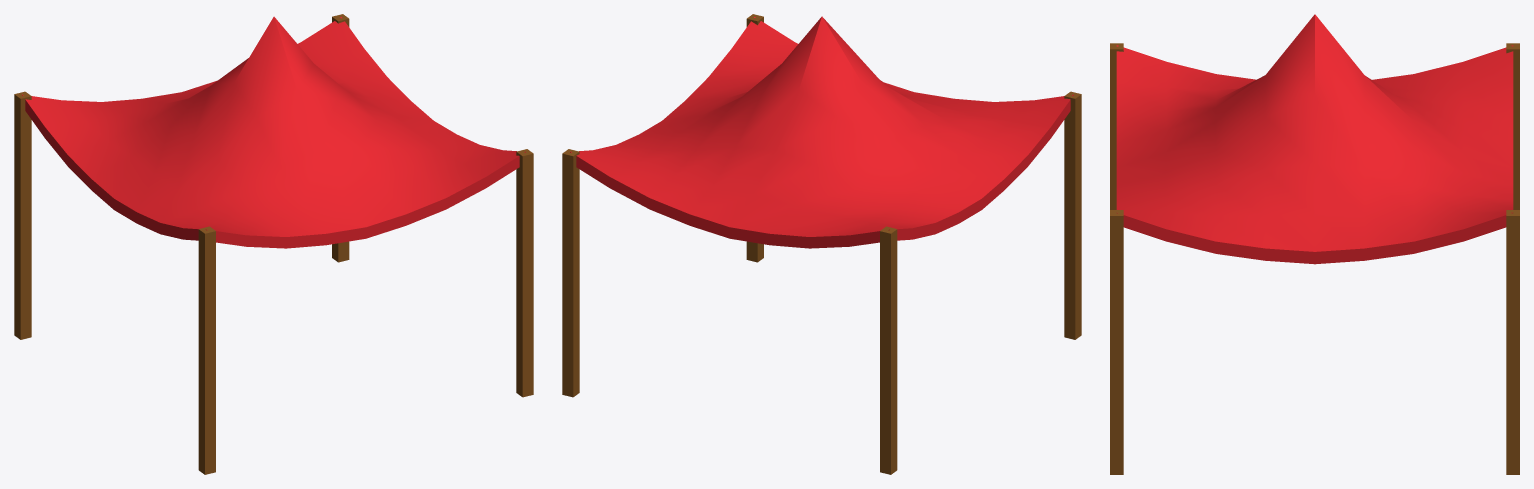
The model's file is zelt_gamejam.fbx.
3 views of the same model, side by side, from view 1: azimuth 30°, elevation 25°; view 2: azimuth 150°, elevation 25°; view 3: azimuth 270°, elevation 25° (orthographic). The views are drawn at different scales.
Parts seen in each view (by area): view 1: Plane.001; view 2: Plane.001; view 3: Plane.001.
Part boxes in pixels (x1,y1,x2,y2): Plane.001: [14, 14, 533, 474]; Plane.001: [562, 14, 1081, 474]; Plane.001: [1110, 14, 1519, 474].
Size of the model in its own units: 388 by 394 by 390.
